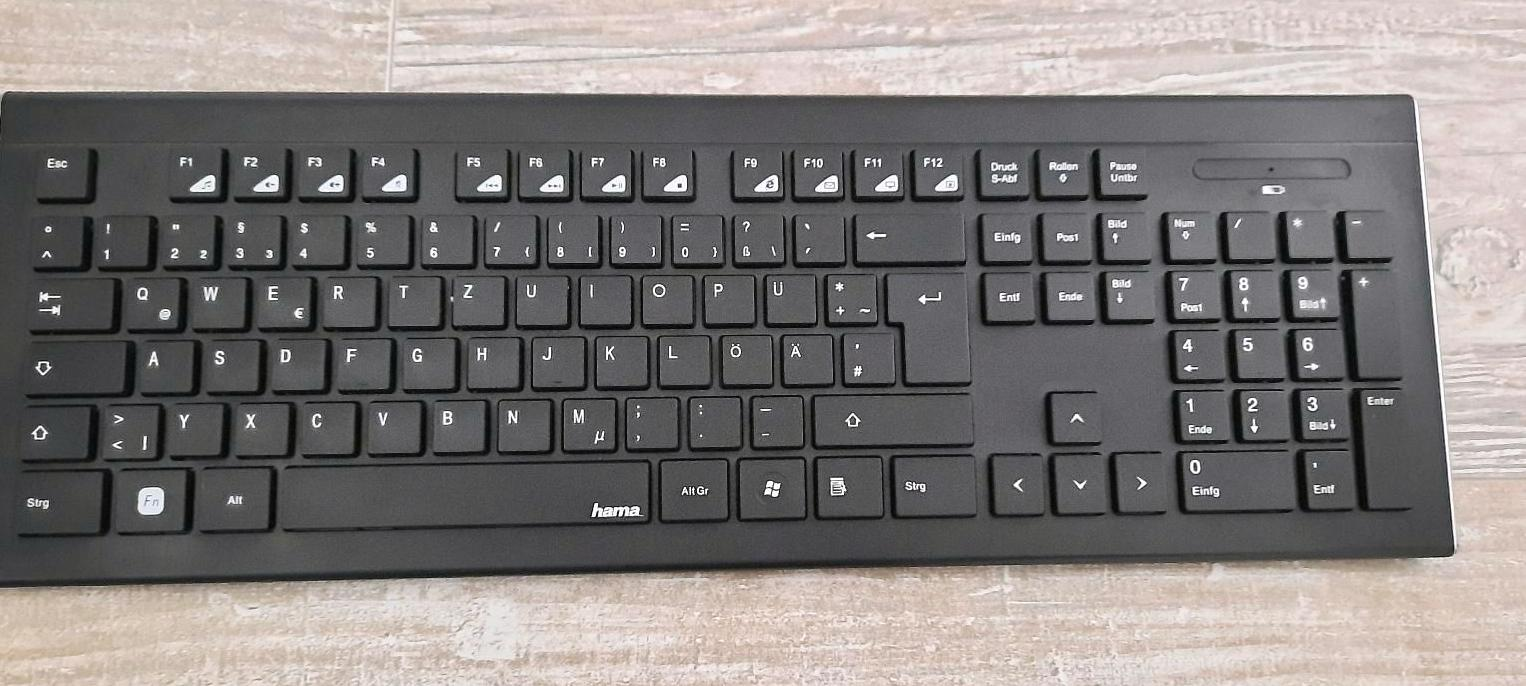0: (667, 210, 723, 265)
1: (92, 211, 149, 267)
2: (158, 212, 216, 267)
3: (222, 210, 282, 266)
4: (287, 211, 345, 265)
5: (351, 211, 409, 265)
6: (417, 211, 474, 265)
7: (481, 210, 537, 265)
8: (543, 209, 598, 264)
9: (606, 210, 661, 264)
a: (133, 335, 193, 393)
accent: (789, 209, 843, 263)
ae: (777, 329, 833, 386)
alt-left: (192, 461, 271, 531)
altgr-right: (654, 454, 729, 520)
b: (426, 394, 485, 453)
c: (294, 396, 355, 454)
caret: (26, 211, 82, 267)
comma: (621, 392, 678, 449)
d: (266, 334, 325, 391)
del: (851, 204, 963, 262)
e: (251, 271, 311, 328)
enter: (884, 268, 967, 384)
f: (332, 334, 390, 390)
g: (397, 333, 454, 389)
h: (462, 333, 520, 389)
hash: (838, 326, 894, 384)
i: (575, 270, 631, 325)
j: (527, 331, 584, 388)
k: (590, 330, 647, 387)
keyboard: (1, 90, 1466, 591)
l: (654, 330, 710, 387)
less: (95, 398, 158, 458)
m: (556, 393, 615, 452)
minus: (744, 391, 802, 447)
n: (492, 394, 551, 452)
o: (637, 269, 692, 325)
oe: (715, 330, 772, 386)
p: (698, 269, 754, 325)
plus: (820, 268, 876, 324)
point: (683, 391, 741, 448)
q: (119, 272, 180, 330)
r: (317, 271, 376, 328)
s: (199, 335, 259, 392)
shift-left: (14, 401, 87, 458)
shift-lock: (21, 335, 125, 393)
shift-right: (809, 389, 973, 444)
space: (274, 457, 649, 528)
ss: (729, 209, 782, 264)
strg-left: (8, 464, 103, 534)
strg-right: (885, 451, 978, 517)
t: (383, 271, 440, 327)
tab: (24, 273, 113, 330)
u: (511, 270, 568, 327)
ue: (760, 269, 816, 326)
v: (361, 395, 420, 453)
w: (185, 271, 245, 328)
x: (229, 397, 288, 455)
y: (162, 398, 221, 455)
z: (448, 270, 504, 327)
